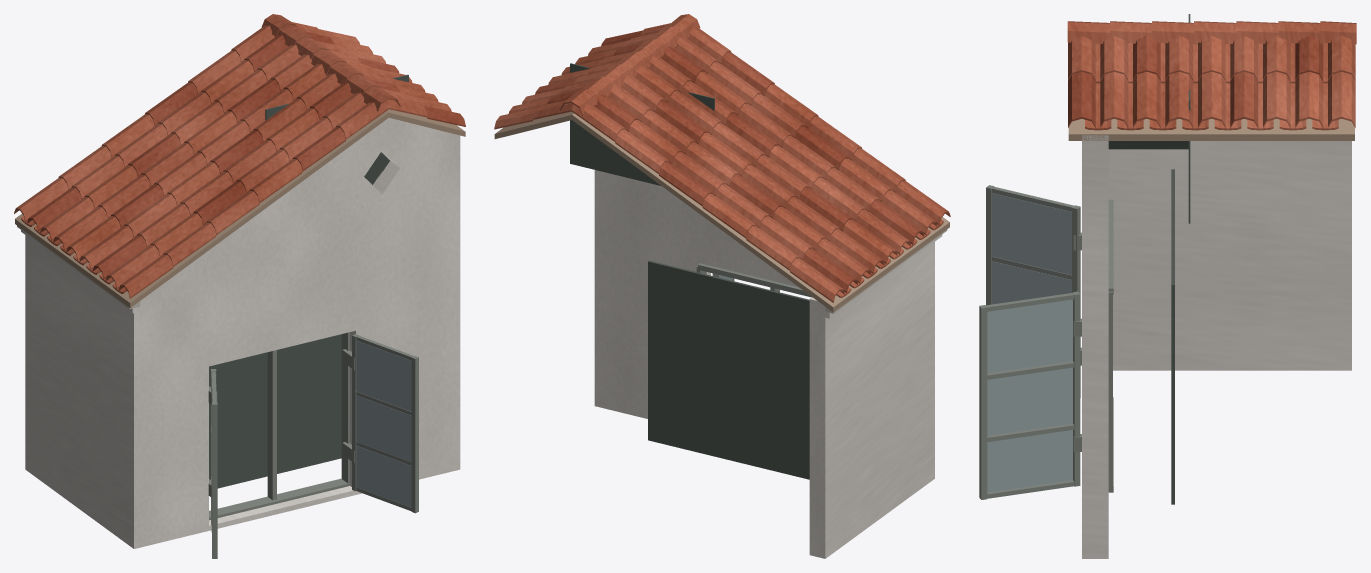
The model's file is 2374-diamond-vent-far.glb.
The picture shows the model from 3 angles, left to right: view 1: azimuth 30°, elevation 25°; view 2: azimuth 150°, elevation 25°; view 3: azimuth 270°, elevation 25°; orthographic projection. The views are drawn at different scales.
Visible parts, largest first — view 1: 虹桥路2374号花园住宅菱孔山墙与筒瓦; view 2: 虹桥路2374号花园住宅菱孔山墙与筒瓦; view 3: 虹桥路2374号花园住宅菱孔山墙与筒瓦.
Part boxes in pixels (x1,y1,x2,y2): 虹桥路2374号花园住宅菱孔山墙与筒瓦: (14,14,465,558); 虹桥路2374号花园住宅菱孔山墙与筒瓦: (494,14,950,558); 虹桥路2374号花园住宅菱孔山墙与筒瓦: (979,14,1356,558).
Size of the model in its own units: 2.8 by 3.15 by 2.2.
9 materials, 4 textured.
